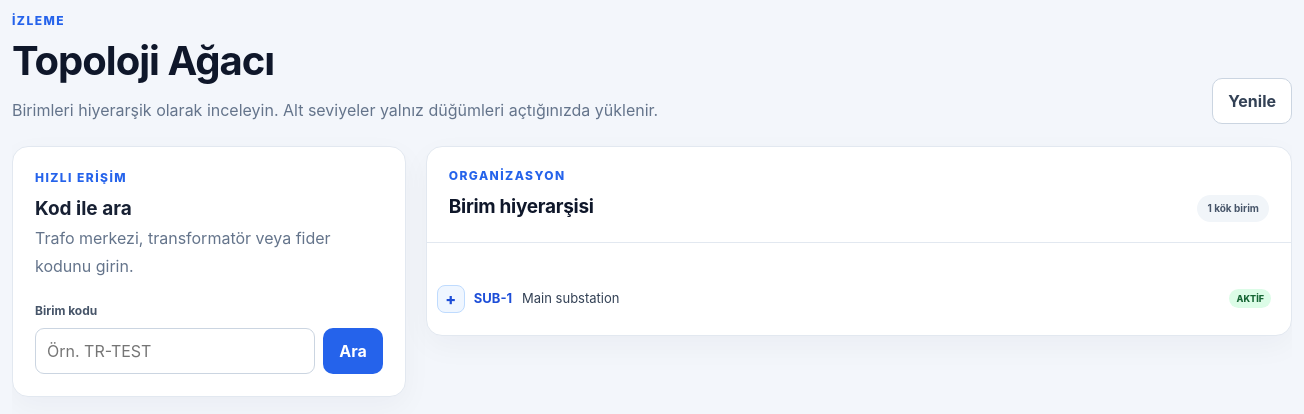
Scenario: F2-T6 lazy topology navigation › children endpointini yalnız düğüm ilk kez açıldığında çağırır
Later steps or results of the test are not shown.
Step 1. Click the button named "Main substation alt birimlerini aç" → (451, 298), box [437,284,465,312]
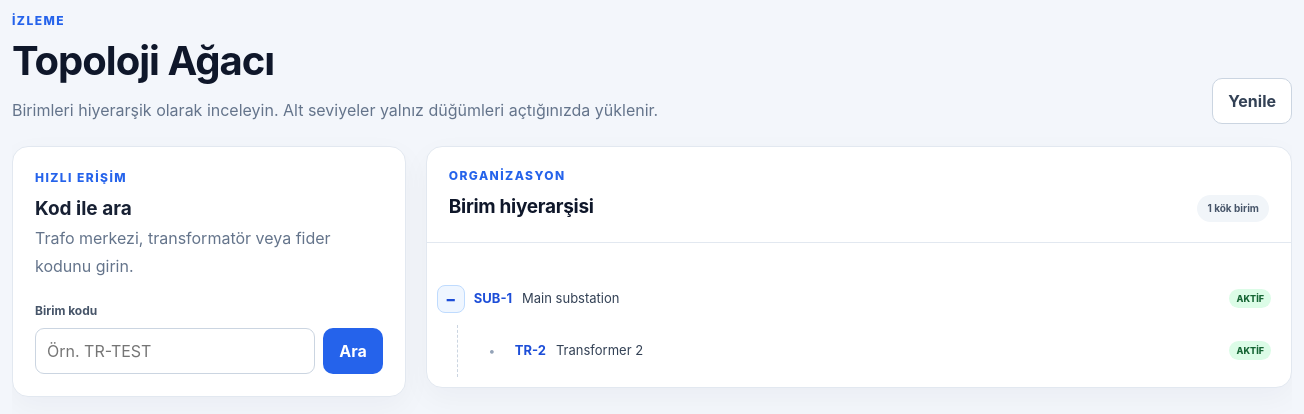
Expected: the text "TR-2" is shown, [515,341,546,360]
